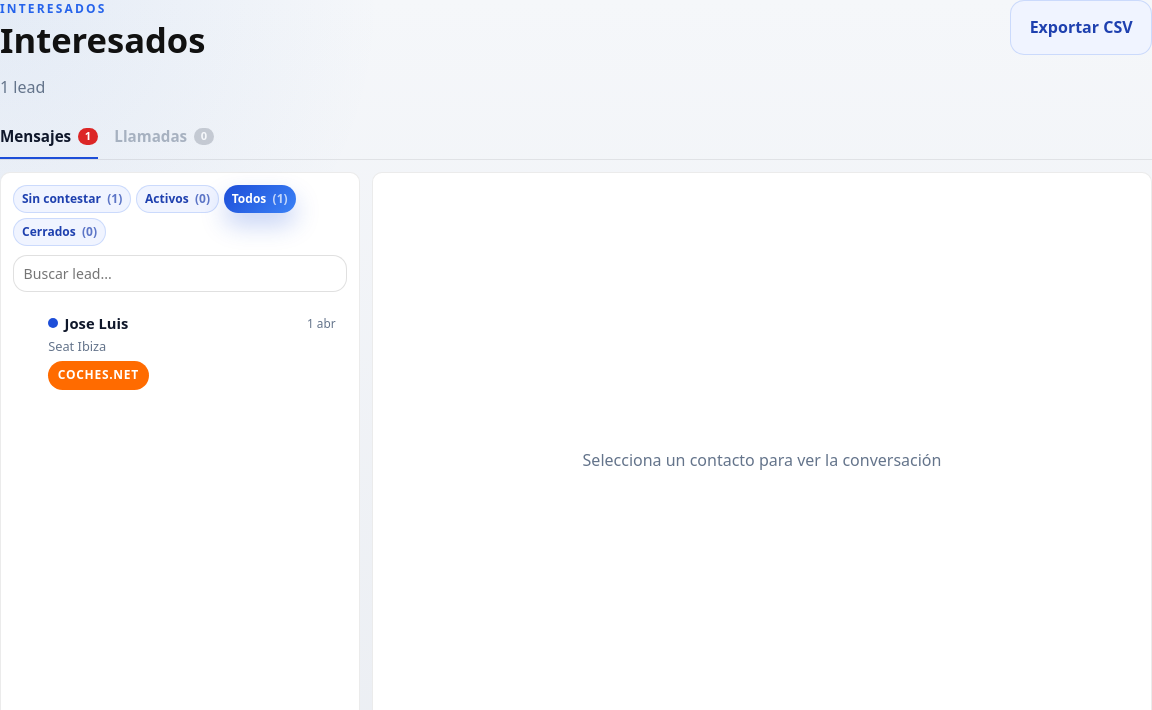
Test: LeadsList — composer (sugerir y enviar) › Sugerir on error shows warning and fills with fallback
The width and height of the screenshot is (1152, 710).
Click the text "Jose Luis" at (88, 323), box [48, 312, 128, 334]
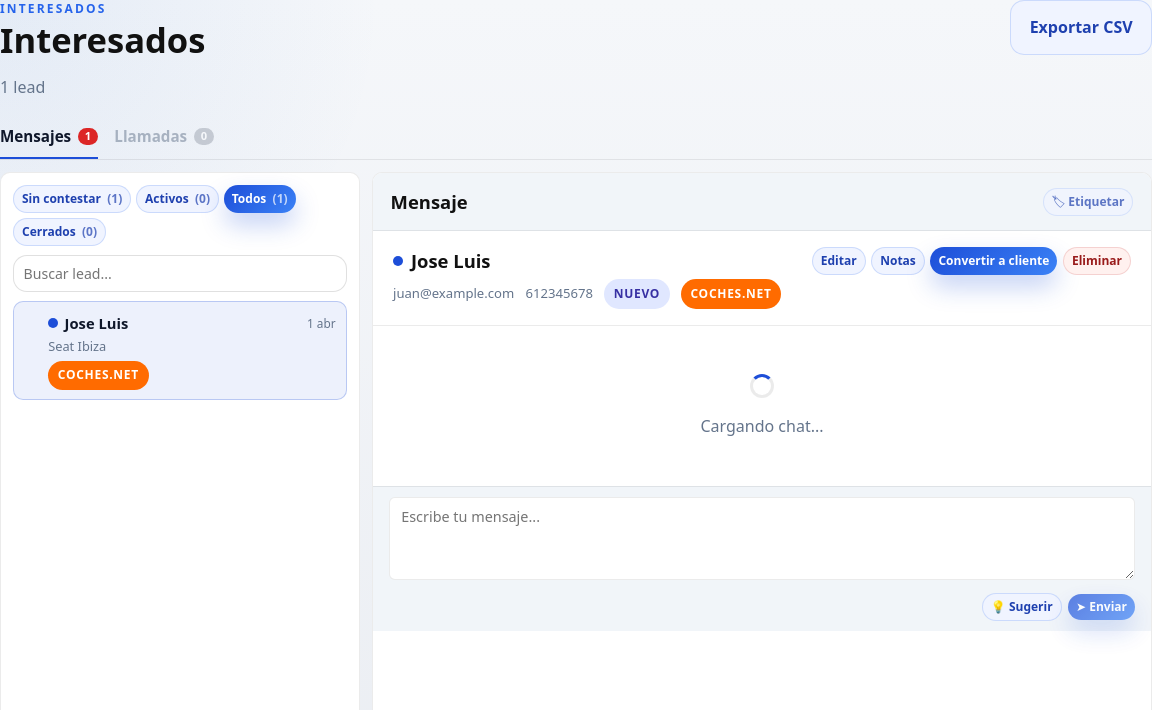
Click the button "💡 Sugerir" at (1022, 607), box [982, 593, 1062, 621]
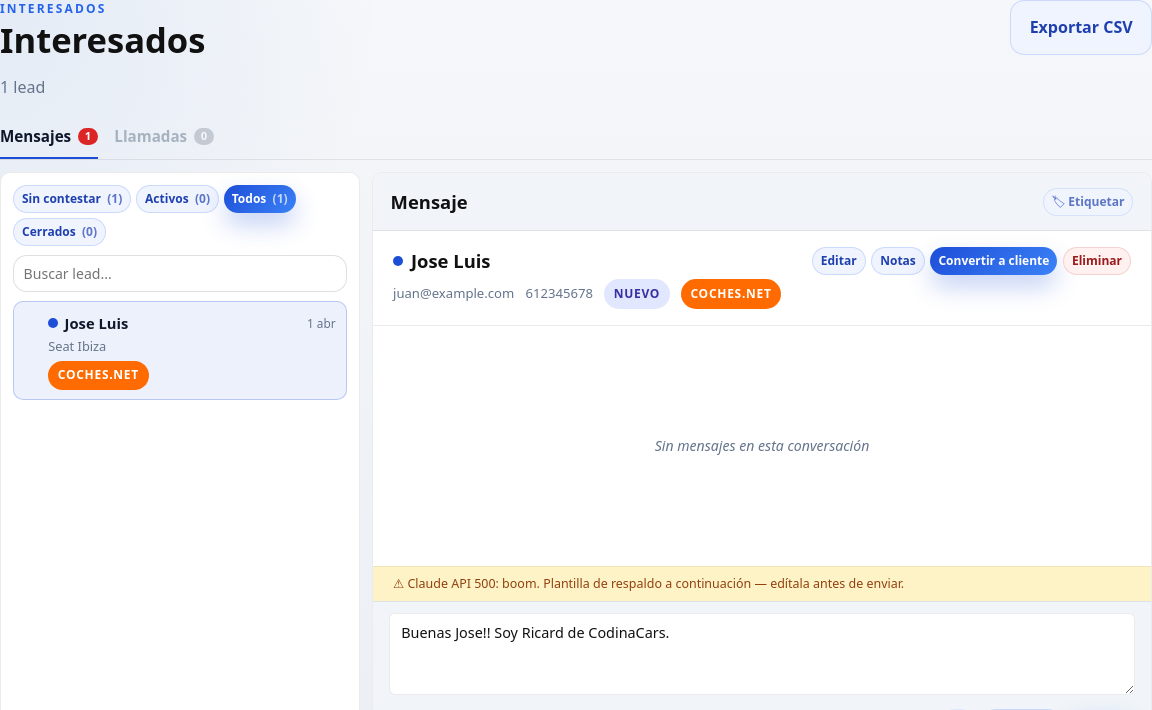
Now the text "Plantilla de respaldo" is shown, box [536, 575, 904, 592]
